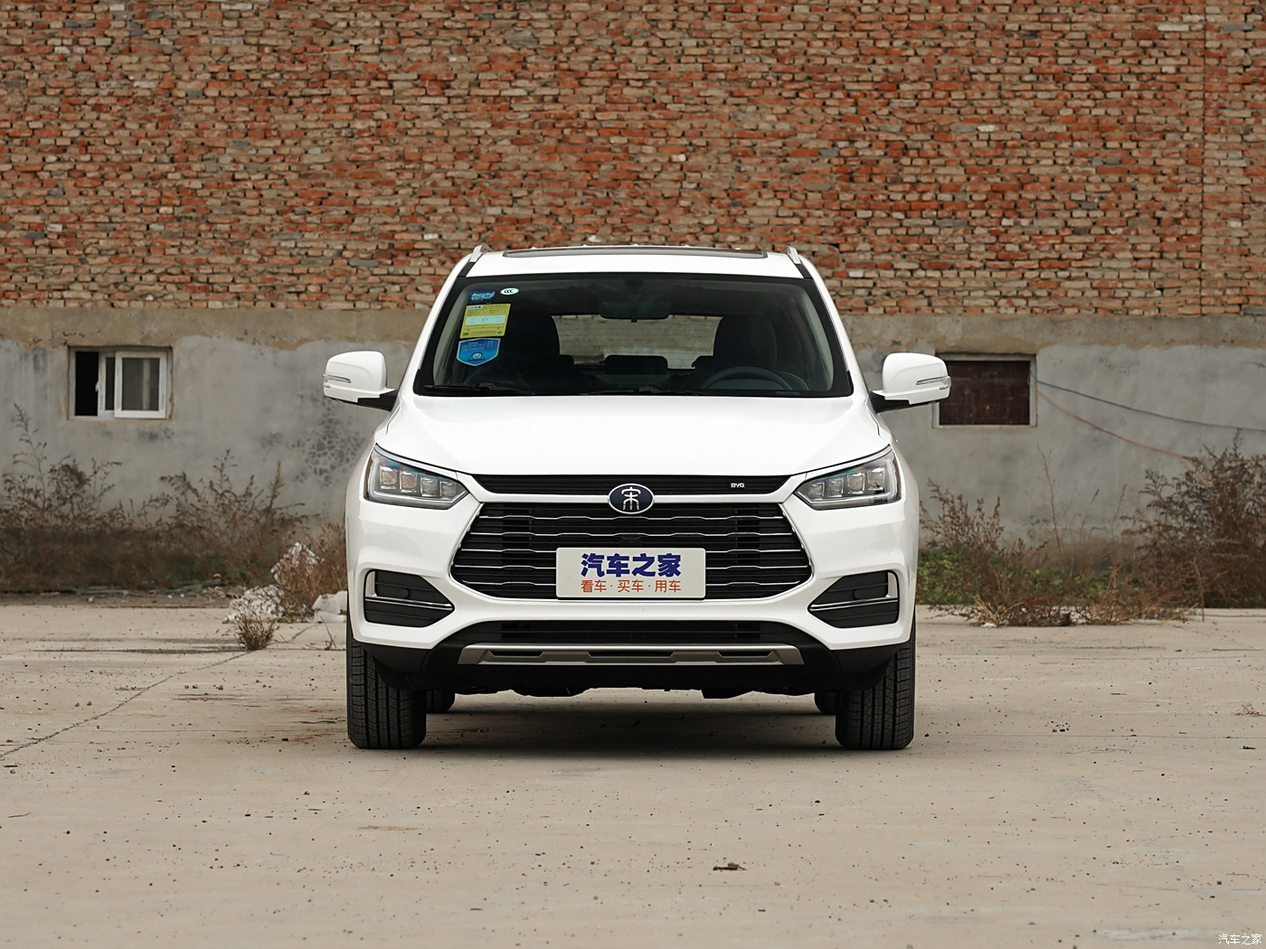BYD Song: (609, 484, 655, 513)
